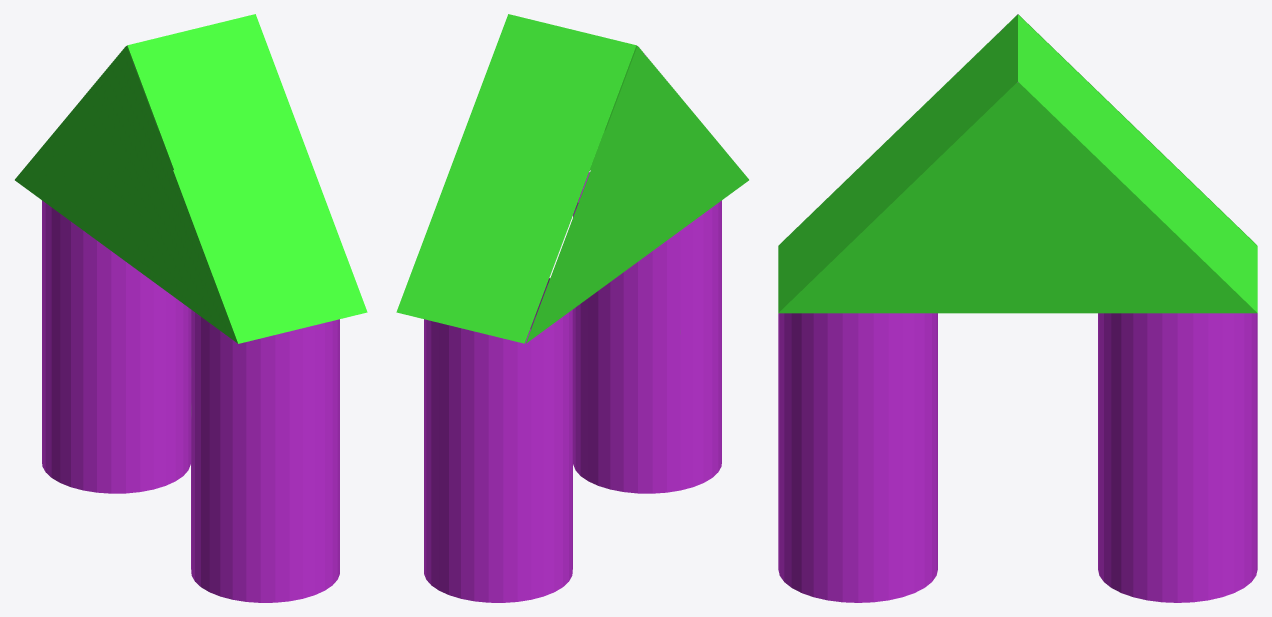
Rendered from normal.obj.
The picture shows the model from 3 angles, left to right: view 1: azimuth 30°, elevation 25°; view 2: azimuth 150°, elevation 25°; view 3: azimuth 270°, elevation 25°; orthographic projection. The views are drawn at different scales.
Visible parts, largest first — view 1: 円柱.001; view 2: 円柱.001; view 3: 円柱.001.
Part boxes in pixels (<box>): 円柱.001: <box>15,14,367,602</box>; 円柱.001: <box>396,14,748,602</box>; 円柱.001: <box>778,14,1257,602</box>.
Size of the model in its own units: 1 by 3.6 by 3.
Materials: 1 (1 with a texture image).
